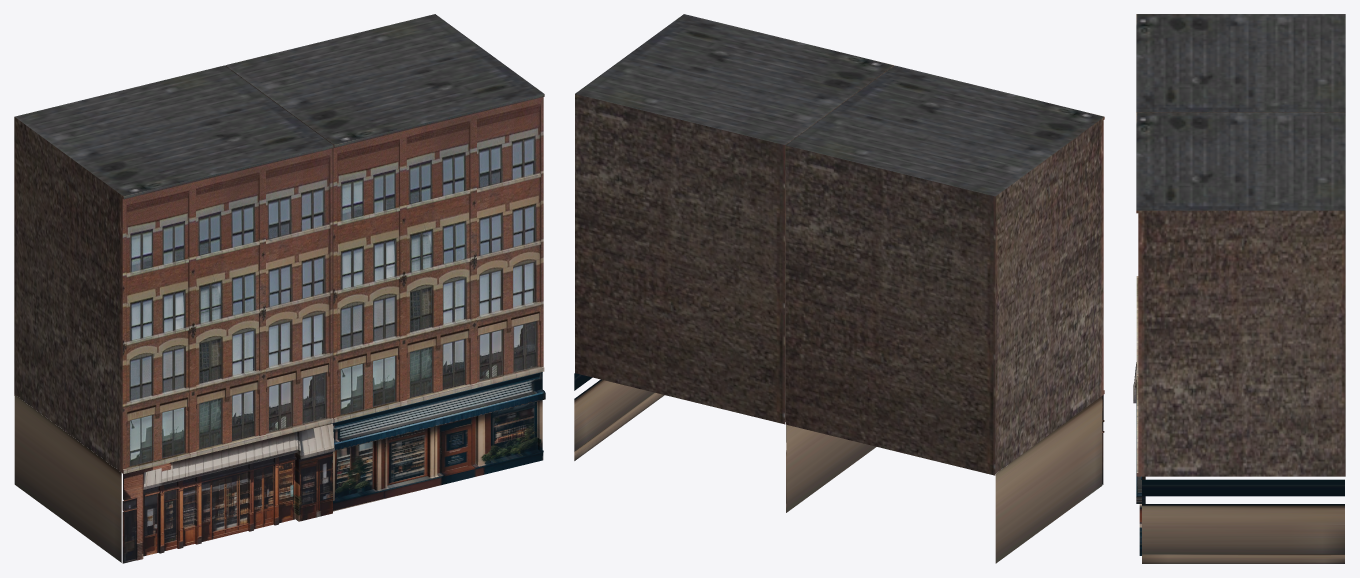
File: shop.fbx
The picture shows the model from 3 angles, left to right: view 1: azimuth 30°, elevation 25°; view 2: azimuth 150°, elevation 25°; view 3: azimuth 270°, elevation 25°; orthographic projection. The views are drawn at different scales.
Parts seen in each view (by area): view 1: Object_6.005, Object_6.006, Object_6, Object_5; view 2: Object_6.005, Object_6.006, Object_6, Object_5; view 3: Object_6.006, Object_6.005, Object_5.
Boxes of the visible parts, x1,y1,x2,y2 form: Object_6.005: (14, 65, 333, 473); Object_6.006: (225, 14, 544, 422); Object_6: (14, 395, 334, 563); Object_5: (331, 372, 545, 511); Object_6.005: (785, 65, 1104, 475); Object_6.006: (575, 14, 893, 424); Object_6: (786, 395, 1104, 563); Object_5: (574, 373, 786, 512); Object_6.006: (1136, 112, 1345, 476); Object_6.005: (1136, 14, 1345, 374); Object_5: (1136, 399, 1344, 563).
Bounding box in the file's own units: 1022 × 852 × 465.
Materials: 3 (3 with a texture image).
